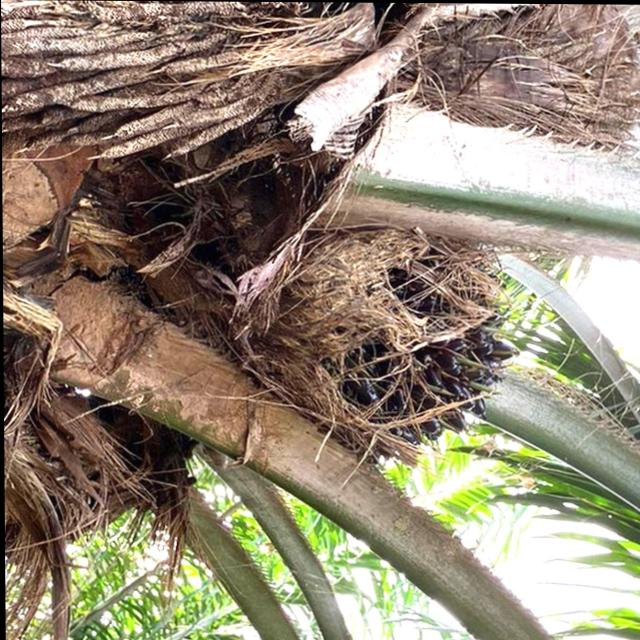unripe: (249, 221, 537, 477)
